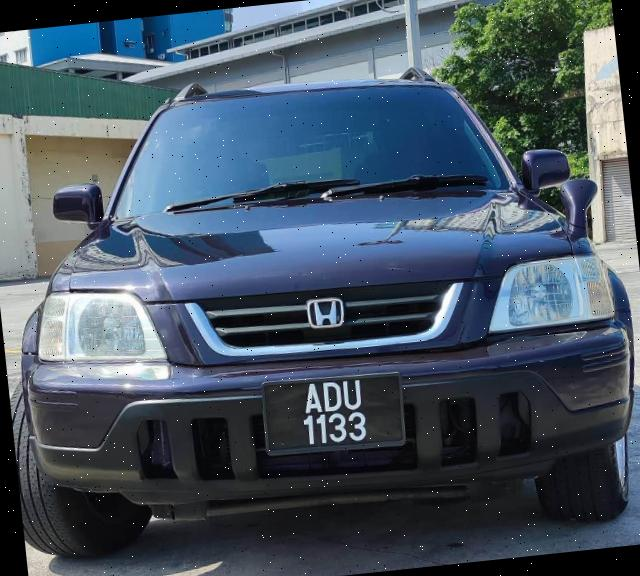License_Plate: (264, 368, 403, 460)
car: (1, 34, 640, 576)
